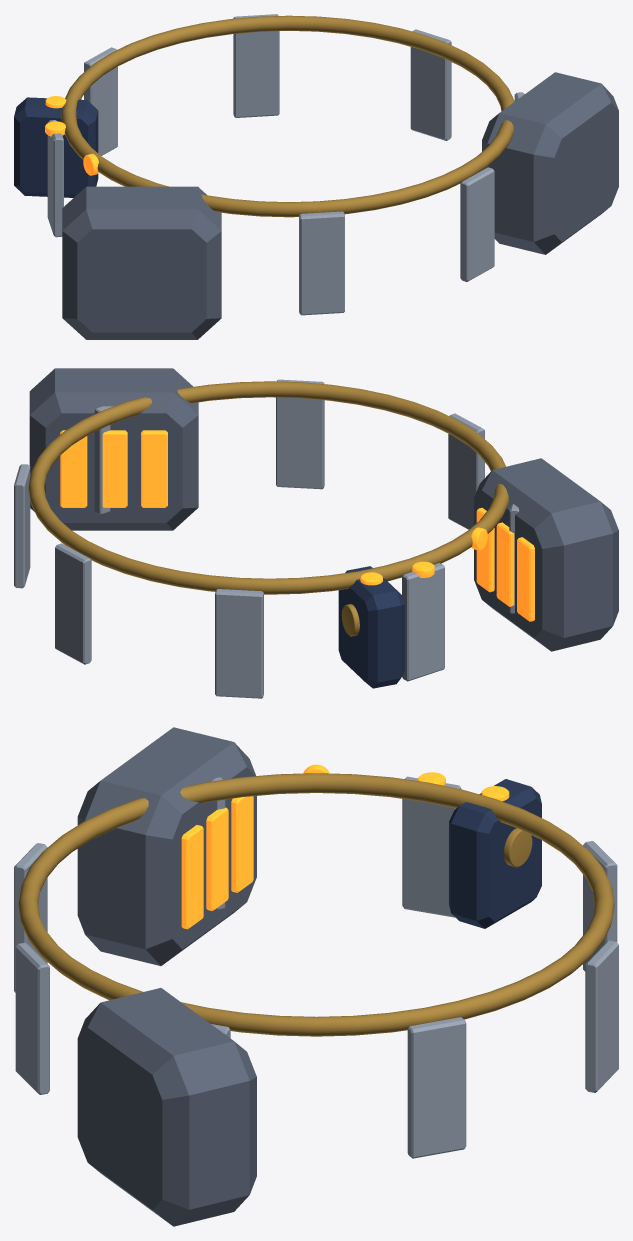
File: tower_overclock_efficiency_s6.glb
3 renders of one model, top to bottom at view 1: azimuth 30°, elevation 25°; view 2: azimuth 150°, elevation 25°; view 3: azimuth 270°, elevation 25°, orthographic. The views are drawn at different scales.
Parts seen in each view (by area): view 1: overclock_battery_b, overclock_battery, overclock_coolant_loop, overclock_regulator, overclock_base_fin6, overclock_base_fin2, overclock_base_fin3, overclock_base_fin5, overclock_base_fin1, overclock_base_fin0; view 2: overclock_battery_b, overclock_battery, overclock_coolant_loop, overclock_regulator, overclock_base_fin1, overclock_base_fin5, overclock_base_fin0, overclock_base_fin2, overclock_base_fin6, overclock_battery_cell0.1, overclock_battery_cell0, overclock_base_fin3 (+6 smaller); view 3: overclock_battery, overclock_battery_b, overclock_coolant_loop, overclock_regulator, overclock_base_fin3, overclock_base_fin0, overclock_base_fin5, overclock_base_fin2, overclock_battery_b_cell-0.1, overclock_battery_b_cell0, overclock_battery_b_cell0.1, overclock_base_fin6 (+2 smaller).
Part boxes in pixels (left/top/right/bottom): overclock_battery_b: left=62, top=186, right=221, bottom=339; overclock_battery: left=482, top=72, right=618, bottom=254; overclock_coolant_loop: left=61, top=15, right=514, bottom=217; overclock_regulator: left=14, top=97, right=98, bottom=197; overclock_base_fin6: left=299, top=211, right=344, bottom=315; overclock_base_fin2: left=233, top=14, right=279, bottom=117; overclock_base_fin3: left=410, top=29, right=451, bottom=140; overclock_base_fin5: left=460, top=167, right=494, bottom=281; overclock_base_fin1: left=84, top=47, right=117, bottom=155; overclock_base_fin0: left=47, top=120, right=63, bottom=237; overclock_battery_b: left=474, top=458, right=618, bottom=651; overclock_battery: left=29, top=368, right=198, bottom=530; overclock_coolant_loop: left=28, top=381, right=508, bottom=594; overclock_regulator: left=338, top=566, right=404, bottom=688; overclock_base_fin1: left=215, top=589, right=263, bottom=698; overclock_base_fin5: left=276, top=379, right=324, bottom=489; overclock_base_fin0: left=402, top=563, right=444, bottom=681; overclock_base_fin2: left=55, top=543, right=91, bottom=664; overclock_base_fin6: left=448, top=413, right=484, bottom=529; overclock_battery_cell0.1: left=141, top=430, right=167, bottom=507; overclock_battery_cell0: left=102, top=430, right=127, bottom=507; overclock_base_fin3: left=14, top=464, right=30, bottom=588; overclock_battery: left=77, top=988, right=256, bottom=1226; overclock_battery_b: left=77, top=727, right=256, bottom=965; overclock_coolant_loop: left=18, top=773, right=614, bottom=1036; overclock_regulator: left=449, top=779, right=541, bottom=928; overclock_base_fin3: left=407, top=1017, right=466, bottom=1158; overclock_base_fin0: left=402, top=776, right=461, bottom=917; overclock_base_fin5: left=15, top=942, right=49, bottom=1094; overclock_base_fin2: left=585, top=940, right=618, bottom=1092; overclock_battery_b_cell-0.1: left=181, top=825, right=203, bottom=929; overclock_battery_b_cell0: left=206, top=807, right=228, bottom=910; overclock_battery_b_cell0.1: left=231, top=796, right=253, bottom=892; overclock_base_fin6: left=14, top=843, right=47, bottom=992.
Bounding box in the file's own units: 1.67 × 0.3792 × 1.22.
